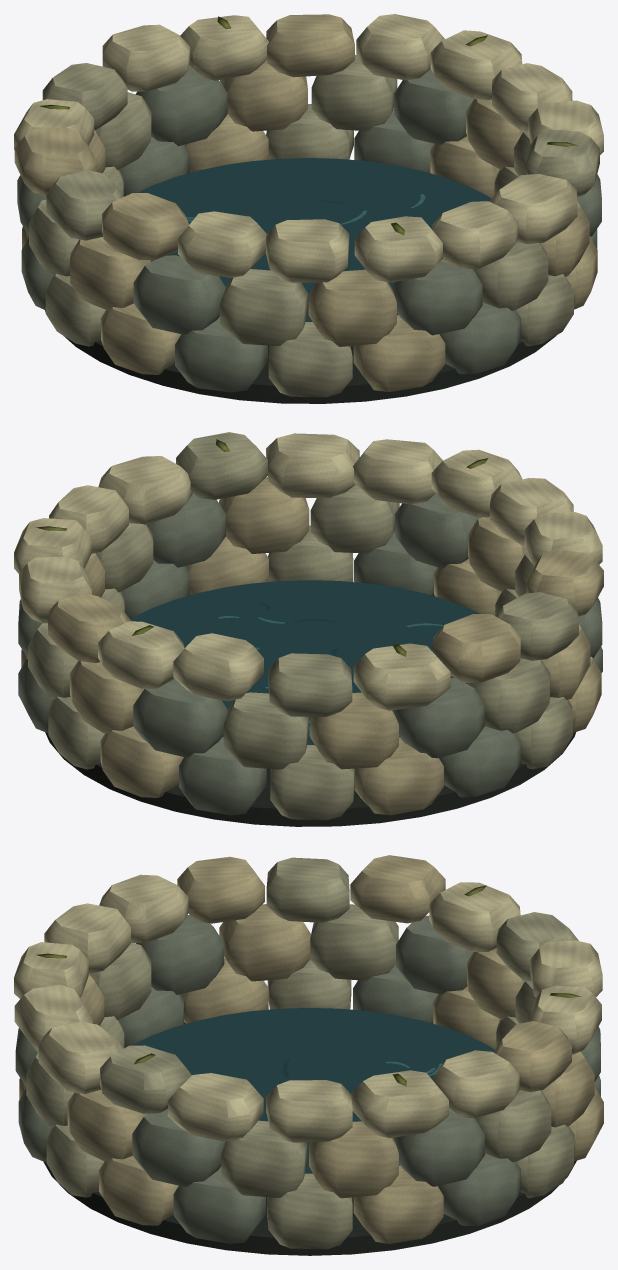
Rendered from central-well.fbx.
3 views of the same model, one above another, from view 1: azimuth 30°, elevation 25°; view 2: azimuth 150°, elevation 25°; view 3: azimuth 270°, elevation 25° (orthographic).
Visible parts, largest first — view 1: central-well__Geometry, central-well__Water; view 2: central-well__Geometry, central-well__Water; view 3: central-well__Geometry, central-well__Water.
Part boxes in pixels (bbox=[...]): central-well__Geometry: bbox=[14, 14, 603, 403]; central-well__Water: bbox=[137, 158, 491, 346]; central-well__Geometry: bbox=[14, 432, 603, 826]; central-well__Water: bbox=[130, 580, 479, 769]; central-well__Geometry: bbox=[14, 855, 603, 1255]; central-well__Water: bbox=[132, 1008, 494, 1198].
Bounding box in the file's own units: 3.75 × 1.18 × 3.74.
